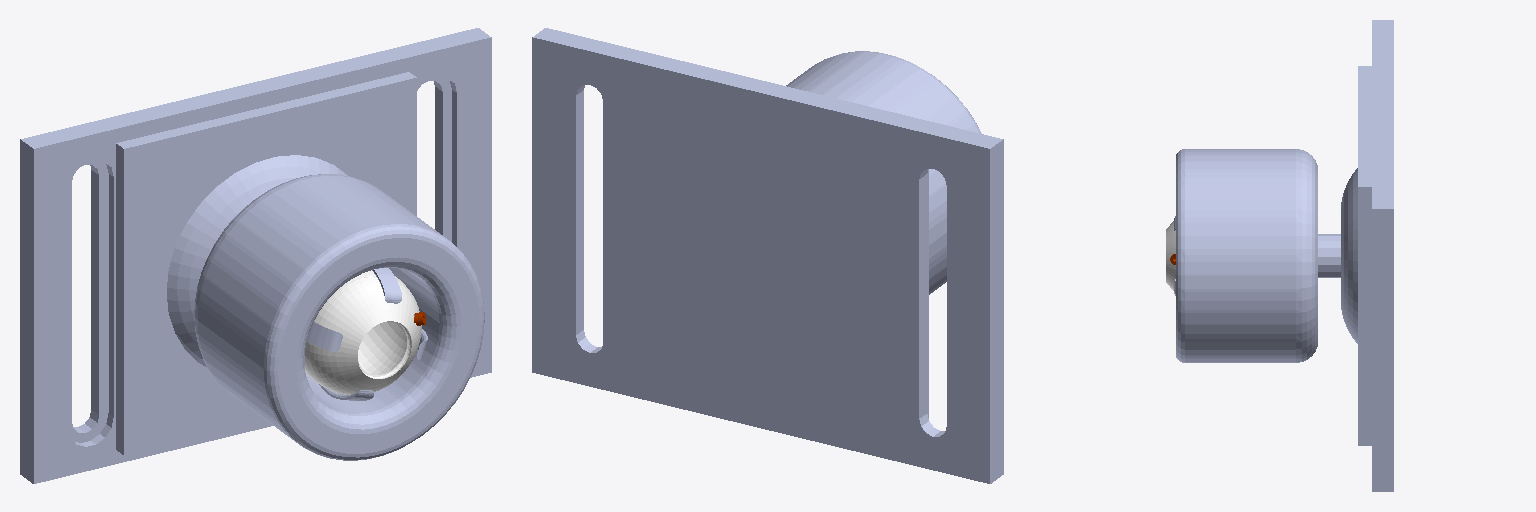
URDF robot description (EYE_PHAMTOM.SLDASM):
<?xml version="1.0" encoding="utf-8"?>
<robot name="EYE_PHAMTOM.SLDASM">

  <link name="Trocar_plate">
    <inertial>
      <origin xyz="-0.010284 0.0012129 -0.024908" rpy="0 0 0" />
      <mass value="0.030295" />
      <inertia ixx="1.5333E-05" ixy="-4.7674E-22" ixz="-4.3837E-22" iyy="2.53E-05" iyz="-1.0486E-19" izz="4.0328E-05" />
    </inertial>
    <visual>
      <origin xyz="0 0 0" rpy="0 0 0" />
      <geometry>
        <mesh filename="Trocar_plate.STL" />
      </geometry>
      <material name="">
        <color rgba="0.79216 0.81961 0.93333 1" />
      </material>
    </visual>
    <collision>
      <origin xyz="0 0 0" rpy="0 0 0" />
      <geometry>
        <mesh filename="Trocar_plate.STL" />
      </geometry>
    </collision>
  </link>

  <link name="Trocar_cover">
    <inertial>
      <origin xyz="0 2.1684E-19 0.0031894" rpy="0 0 0" />
      <mass value="0.051623" />
      <inertia ixx="1.8441E-05" ixy="-6.6852E-38" ixz="-1.2085E-22" iyy="1.8441E-05" iyz="-1.0609E-38" izz="1.698E-05" />
    </inertial>
    <visual>
      <origin xyz="0 0 0" rpy="0 0 0" />
      <geometry>
        <mesh filename="Trocar_cover.STL" />
      </geometry>
      <material name="">
        <color rgba="0.79216 0.81961 0.93333 1" />
      </material>
    </visual>
    <collision>
      <origin xyz="0 0 0" rpy="0 0 0" />
      <geometry>
        <mesh filename="Trocar_cover.STL" />
      </geometry>
    </collision>
  </link>

  <joint name="Cover" type="revolute">
    <origin xyz="-0.010284 0.006 0.0012129" rpy="1.5708 0 0" />
    <parent link="Trocar_plate" />
    <child link="Trocar_cover" />
    <axis xyz="0 0 0" />
    <limit lower="0" upper="0" effort="0" velocity="0" />
  </joint>

  <link name="Trocar_gripper">
    <inertial>
      <origin xyz="6.15921593302357E-08 0.00866204485646013 -8.45455101743803E-08" rpy="0 0 0" />
      <mass value="0.000465099979144033" />
      <inertia ixx="4.62973137158684E-08" ixy="-3.59081407708454E-13" ixz="-2.4218954980201E-18" iyy="4.54118427502853E-08" iyz="4.83325739784747E-13" izz="4.62973137174286E-08" />
    </inertial>
    <visual>
      <origin xyz="0 0 0" rpy="0 0 0" />
      <geometry>
        <mesh filename="Trocar_gripper.STL" />
      </geometry>
      <material name="">
        <color rgba="0.792156862745098 0.819607843137255 0.933333333333333 1" />
      </material>
    </visual>
    <collision>
      <origin xyz="0 0 0" rpy="0 0 0" />
      <geometry>
        <mesh filename="Trocar_gripper.STL" />
      </geometry>
    </collision>
  </link>

  <joint name="gripper" type="revolute">
    <origin xyz="0 0 0.005" rpy="1.5708 0 1.2559" />
    <parent link="Trocar_cover" />
    <child link="Trocar_gripper" />
    <axis xyz="0 1 0" />
    <limit lower="0" upper="0" effort="0" velocity="0" />
  </joint>

  <link name="Eye_phantom">
    <inertial>
      <origin xyz="-0.012472312239797 -1.50679048680994E-05 -2.58139816005937E-05" rpy="0 0 0" />
      <mass value="0.00166355152381348" />
      <inertia ixx="1.67706142981398E-07" ixy="2.68078790732605E-10" ixz="-3.60065214288737E-10" iyy="1.50535164162634E-07" iyz="-2.37123987209198E-12" izz="1.51037126333486E-07" />
    </inertial>
    <visual>
      <origin xyz="0 0 0" rpy="0 0 0" />
      <geometry>
        <mesh filename="Eye_phantom.STL" />
      </geometry>
      <material name="">
        <color rgba="1 1 1 1" />
      </material>
    </visual>
    <collision>
      <origin xyz="0 0 0" rpy="0 0 0" />
      <geometry>
        <mesh filename="Eye_phantom.STL" />
      </geometry>
    </collision>
  </link>

  <joint name="Eye_phantom" type="revolute">
    <origin xyz="0 0 0" rpy="-0.67633 0 -1.5708" />
    <parent link="Trocar_gripper" />
    <child link="Eye_phantom" />
    <axis xyz="1 0 0" />
    <limit lower="0" upper="0" effort="0" velocity="0" />
  </joint>

  <link name="Eye_trocar">
    <inertial>
      <origin xyz="0 3.03576608295941E-18 0.00446798310326308" rpy="0 0 0" />
      <mass value="7.447930783498E-06" />
      <inertia ixx="7.4544848639307E-12" ixy="-1.0097419586829E-28" ixz="-6.86624531904369E-27" iyy="7.4544848639307E-12" iyz="2.72630328844382E-27" izz="5.94805100211937E-12" />
    </inertial>
    <visual>
      <origin xyz="0 0 0" rpy="0 0 0" />
      <geometry>
        <mesh filename="Eye_trocar.STL" />
      </geometry>
      <material name="">
        <color rgba="0.717647058823529 0.254901960784314 0 1" />
      </material>
    </visual>
    <collision>
      <origin xyz="0 0 0" rpy="0 0 0" />
      <geometry>
        <mesh filename="Eye_trocar.STL" />
      </geometry>
    </collision>
  </link>

  <joint name="Eye_trocar" type="revolute">
    <origin xyz="-0.018742 -3.9168E-05 0.0062012" rpy="0.2922 -0.64361 -0.45715" />
    <parent link="Eye_phantom" />
    <child link="Eye_trocar" />
    <axis xyz="0 0 1" />
    <limit lower="0" upper="0" effort="0" velocity="0" />
  </joint>

</robot>

--- Render facts (derived) ---
Views: 3 orthographic renders of the robot side by side, from view 1: azimuth 30°, elevation 25°; view 2: azimuth 150°, elevation 25°; view 3: azimuth 270°, elevation 25°.
Robot: EYE_PHAMTOM.SLDASM — 5 links, 4 joints (4 revolute); root link Trocar_plate; default pose: all joints at 0.
Links seen in each view (by area): view 1: Trocar_plate, Trocar_cover, Eye_phantom, Trocar_gripper; view 2: Trocar_plate, Trocar_cover; view 3: Trocar_cover, Trocar_plate, Eye_phantom.
Link boxes in pixels (<box>): Trocar_plate: <box>20,28,491,483</box>; Trocar_cover: <box>167,155,484,460</box>; Eye_phantom: <box>305,270,421,394</box>; Trocar_gripper: <box>307,268,427,400</box>; Trocar_plate: <box>532,28,1003,483</box>; Trocar_cover: <box>786,51,981,294</box>; Trocar_cover: <box>1176,149,1357,362</box>; Trocar_plate: <box>1358,20,1393,491</box>; Eye_phantom: <box>1166,221,1175,290</box>.
Size in the robot's own frame: 0.1 by 0.0512 by 0.07 metres.
5 mesh visuals loaded from 5 distinct referenced files (5 binary STL).